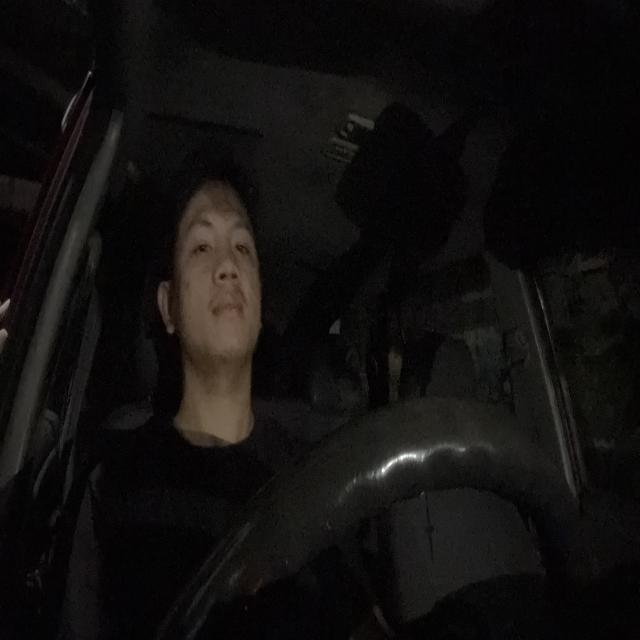open: (186, 214, 215, 263), (230, 217, 253, 265)
